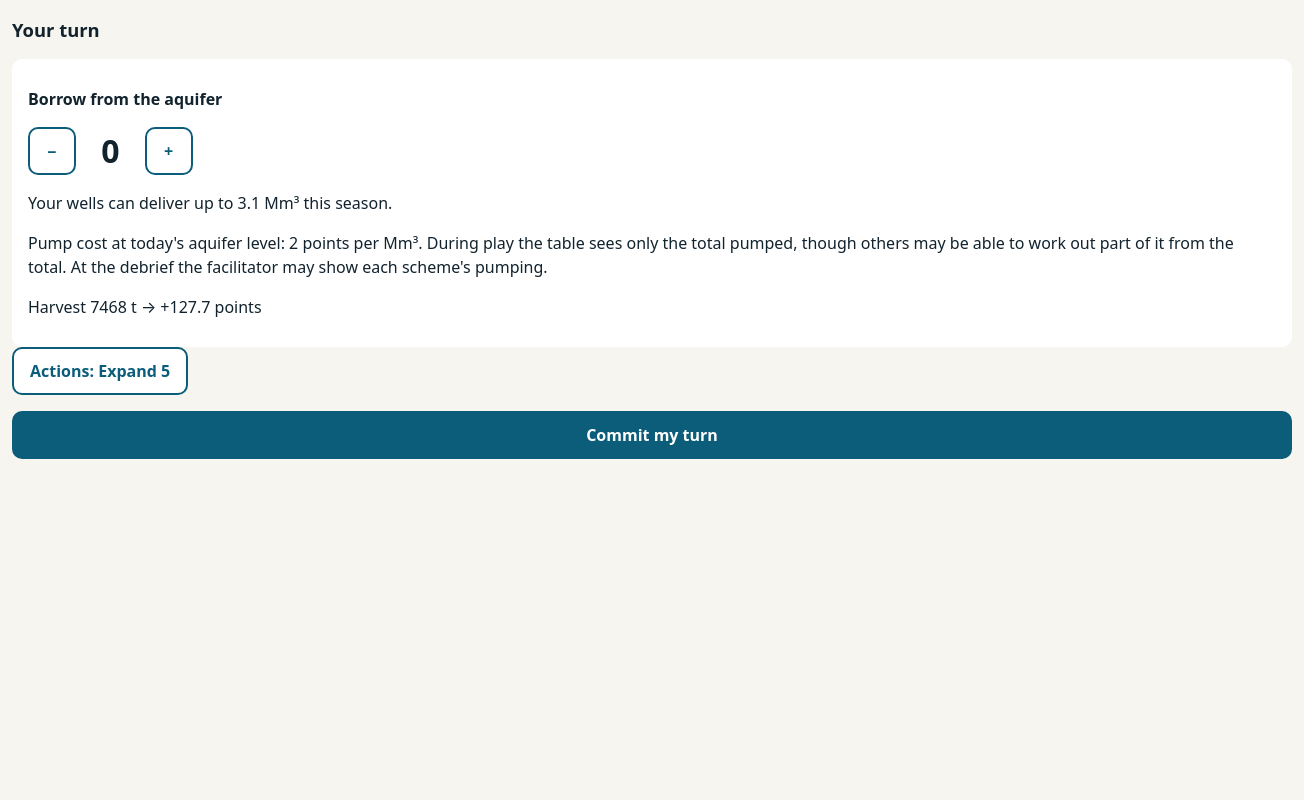
Test: S6 private turn › shows the engine points for a chosen action
This screenshot has width=1304, height=800.
Click the button "Actions: Expand 5". click: (100, 371)
box: [12,347,188,395]
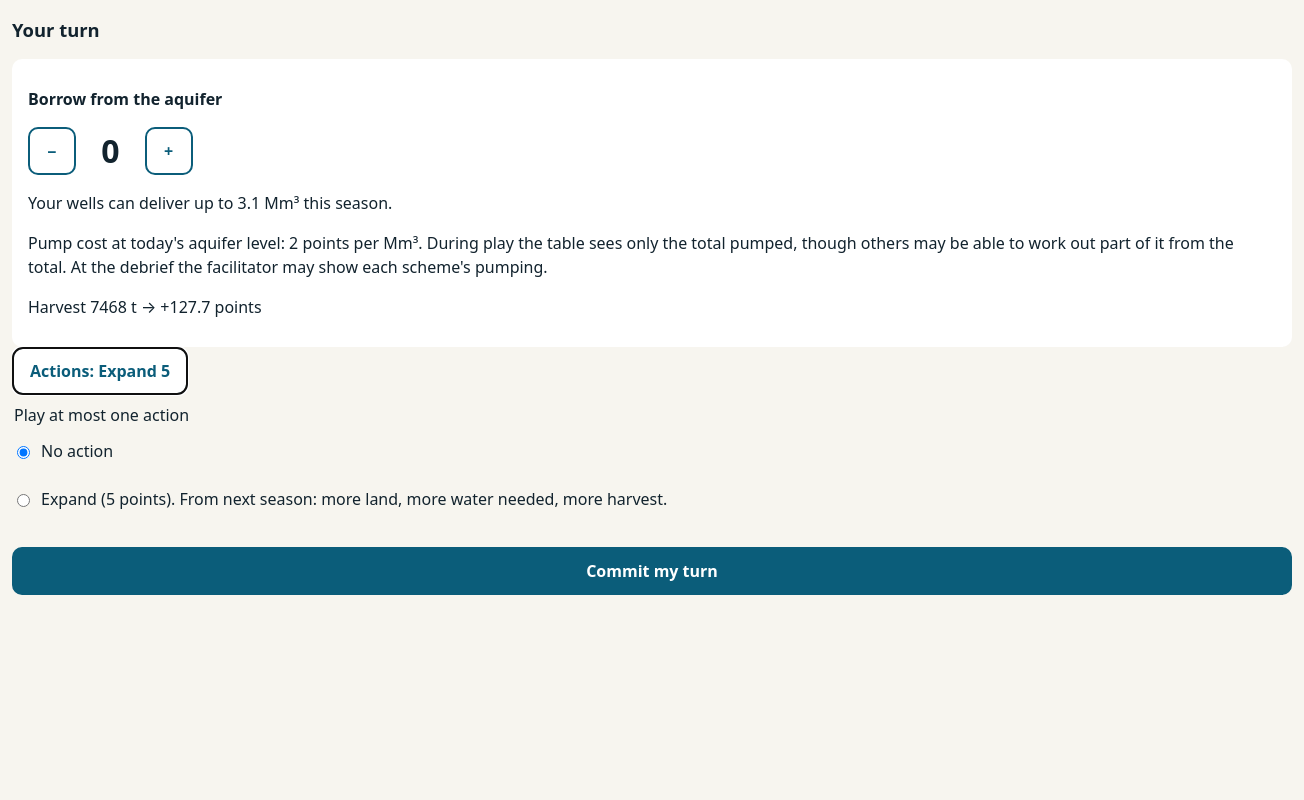
Click the radio button labelled "Expand". click: (24, 500)
box: [17,494,30,507]
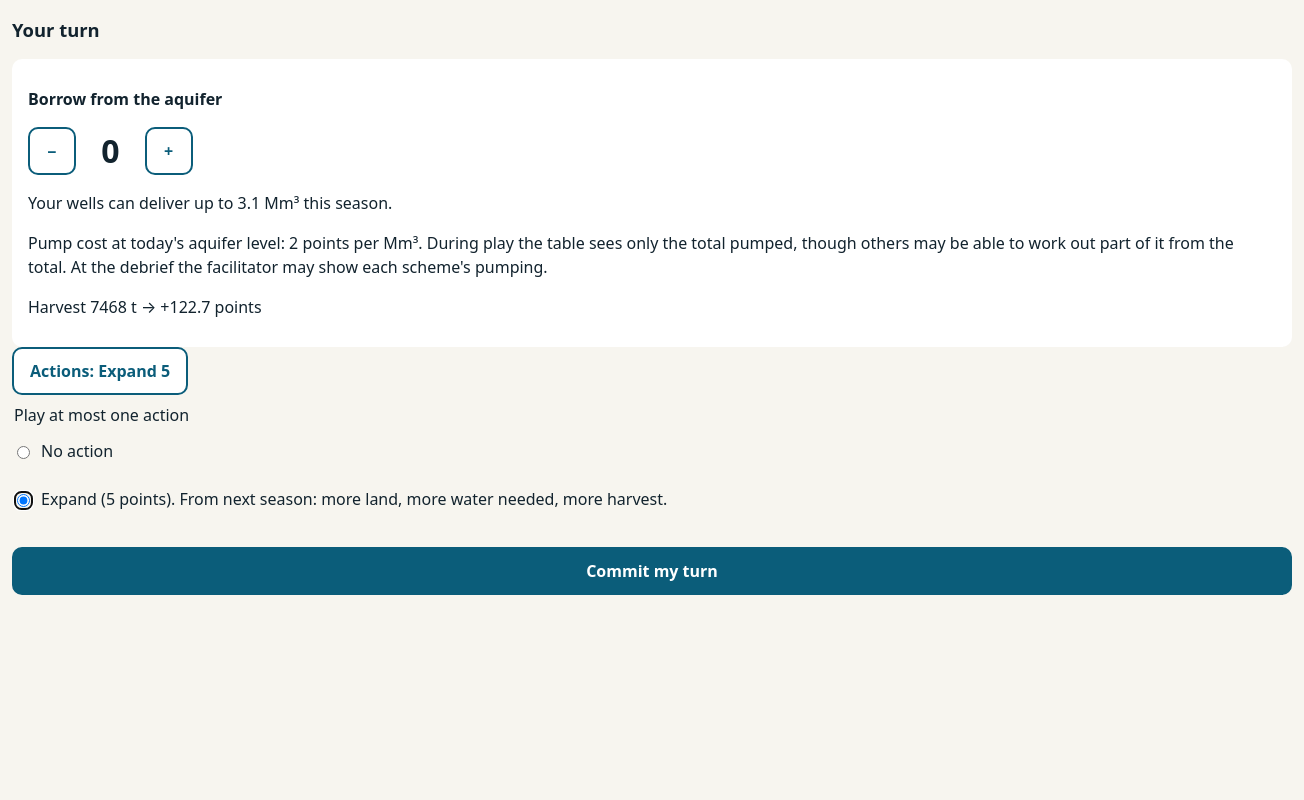
Check: the text with test id "preview" shows "122.7", box [160,296,210,318]
